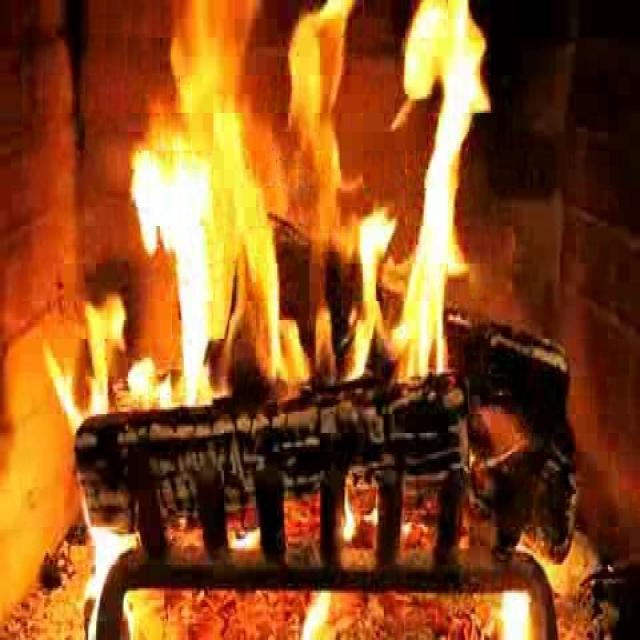fire: (118, 14, 490, 429)
